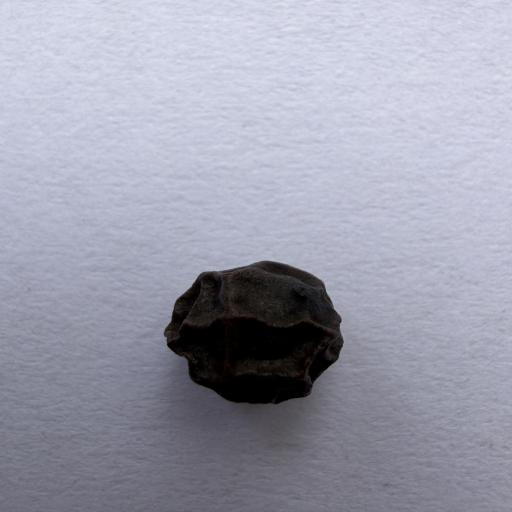Black_pepper: (155, 260, 364, 414)
